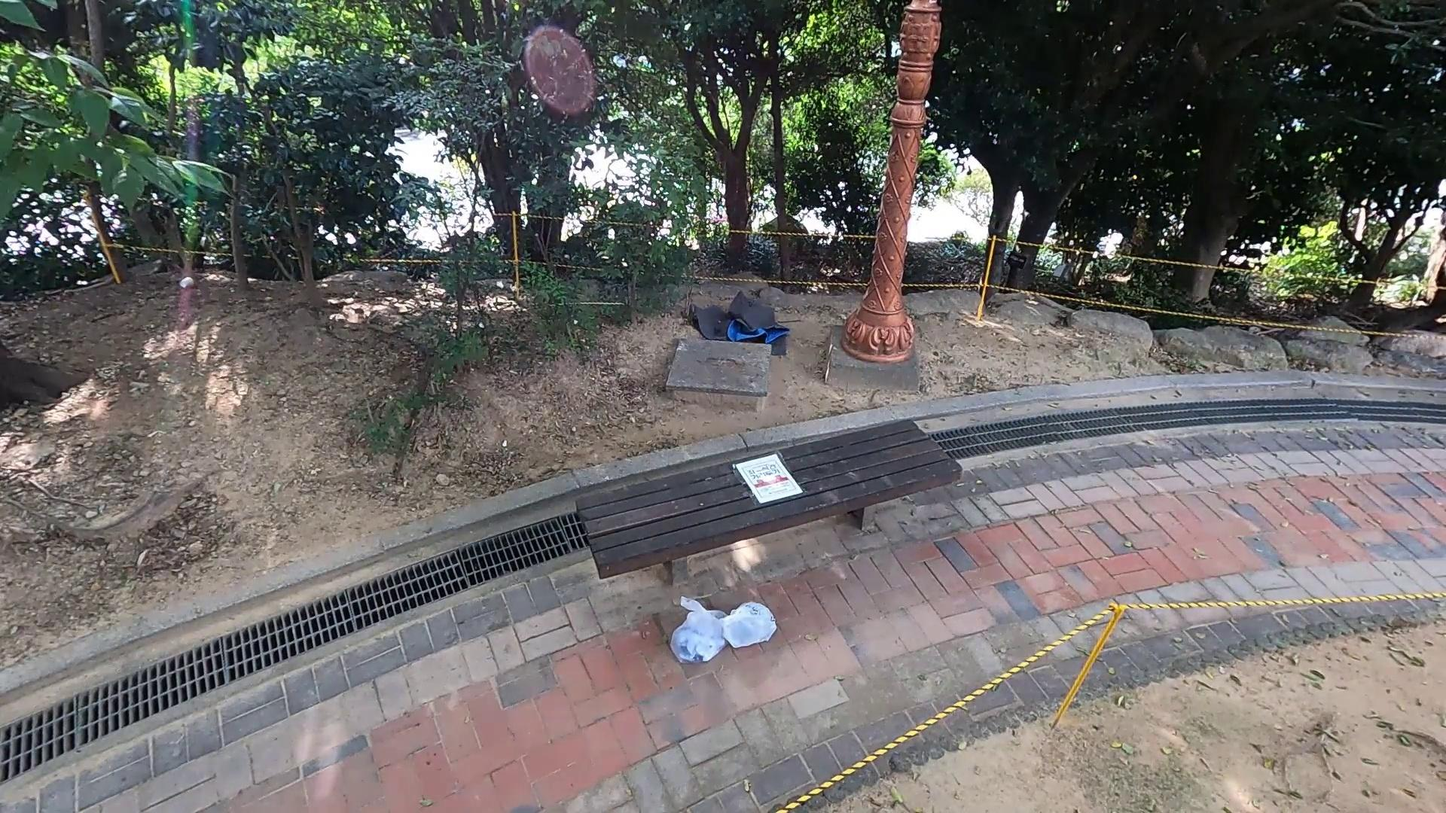trash: (689, 290, 791, 359), (671, 594, 727, 662), (723, 601, 777, 648)
